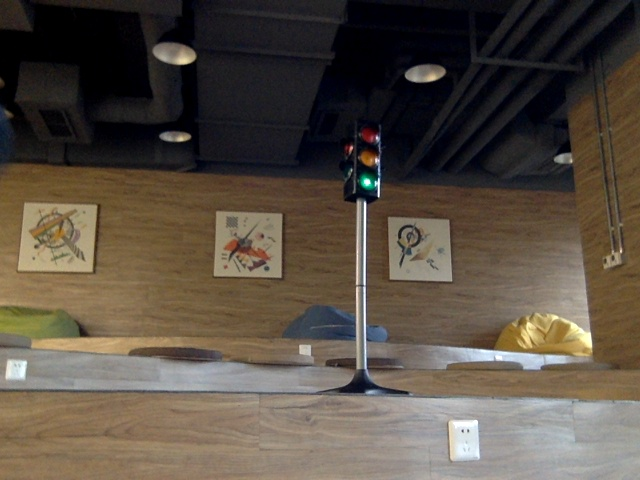green: (353, 125, 379, 196)
